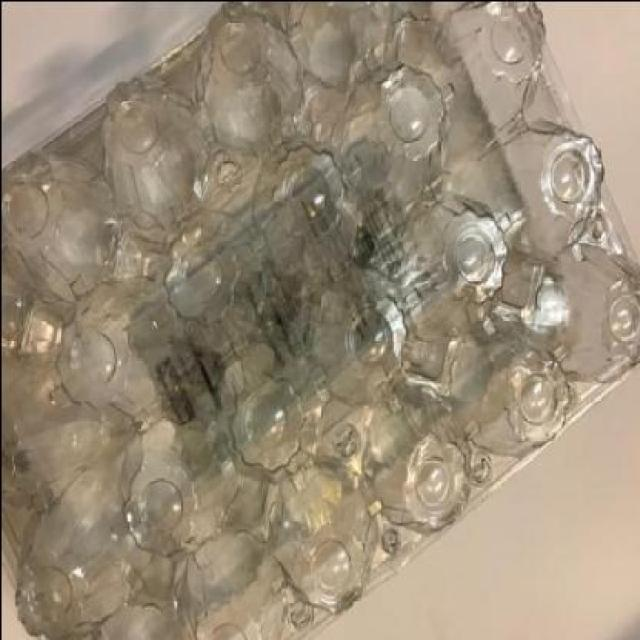PLASTIC: (0, 1, 638, 640)
